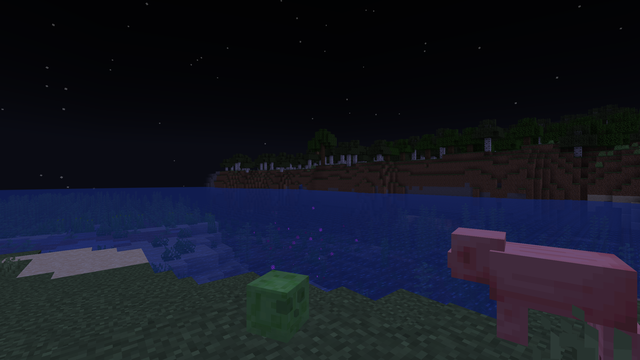cochons: (485, 236, 618, 359)
slimes: (247, 267, 311, 345)
